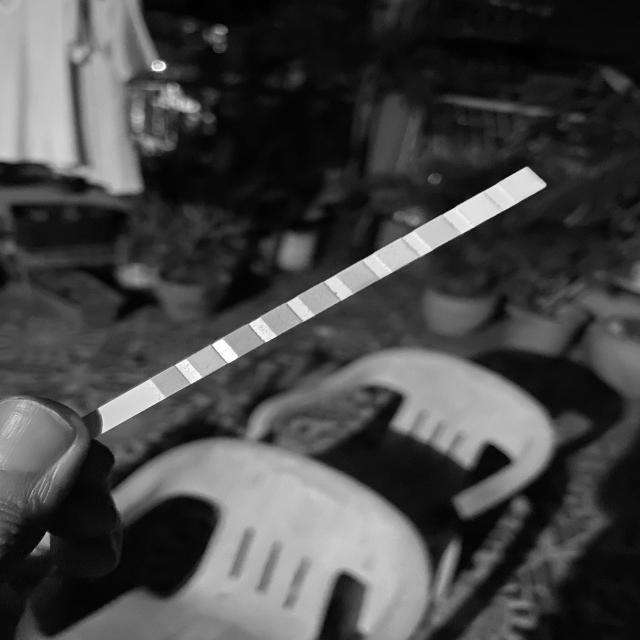Bilirubin: (195, 354, 219, 368)
Blood: (306, 292, 332, 307)
Glucose: (159, 374, 181, 390)
Ketone: (231, 333, 255, 348)
Leukocytes: (507, 178, 538, 192)
Nitrite: (466, 202, 494, 216)
Protein: (383, 248, 409, 264)
SpGravity: (268, 313, 294, 327)
Urobilinogen: (424, 224, 451, 240)
background: (0, 0, 640, 640)
pH: (343, 272, 372, 284)
strip: (85, 167, 548, 433)
